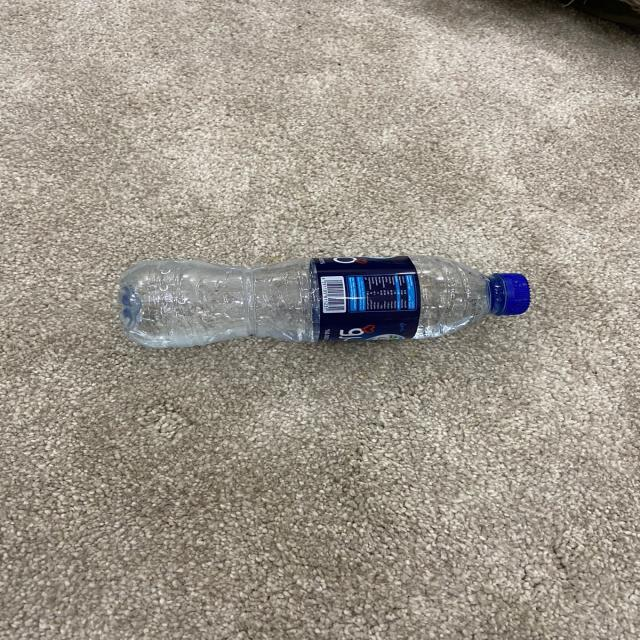chai: (119, 256, 530, 348)
